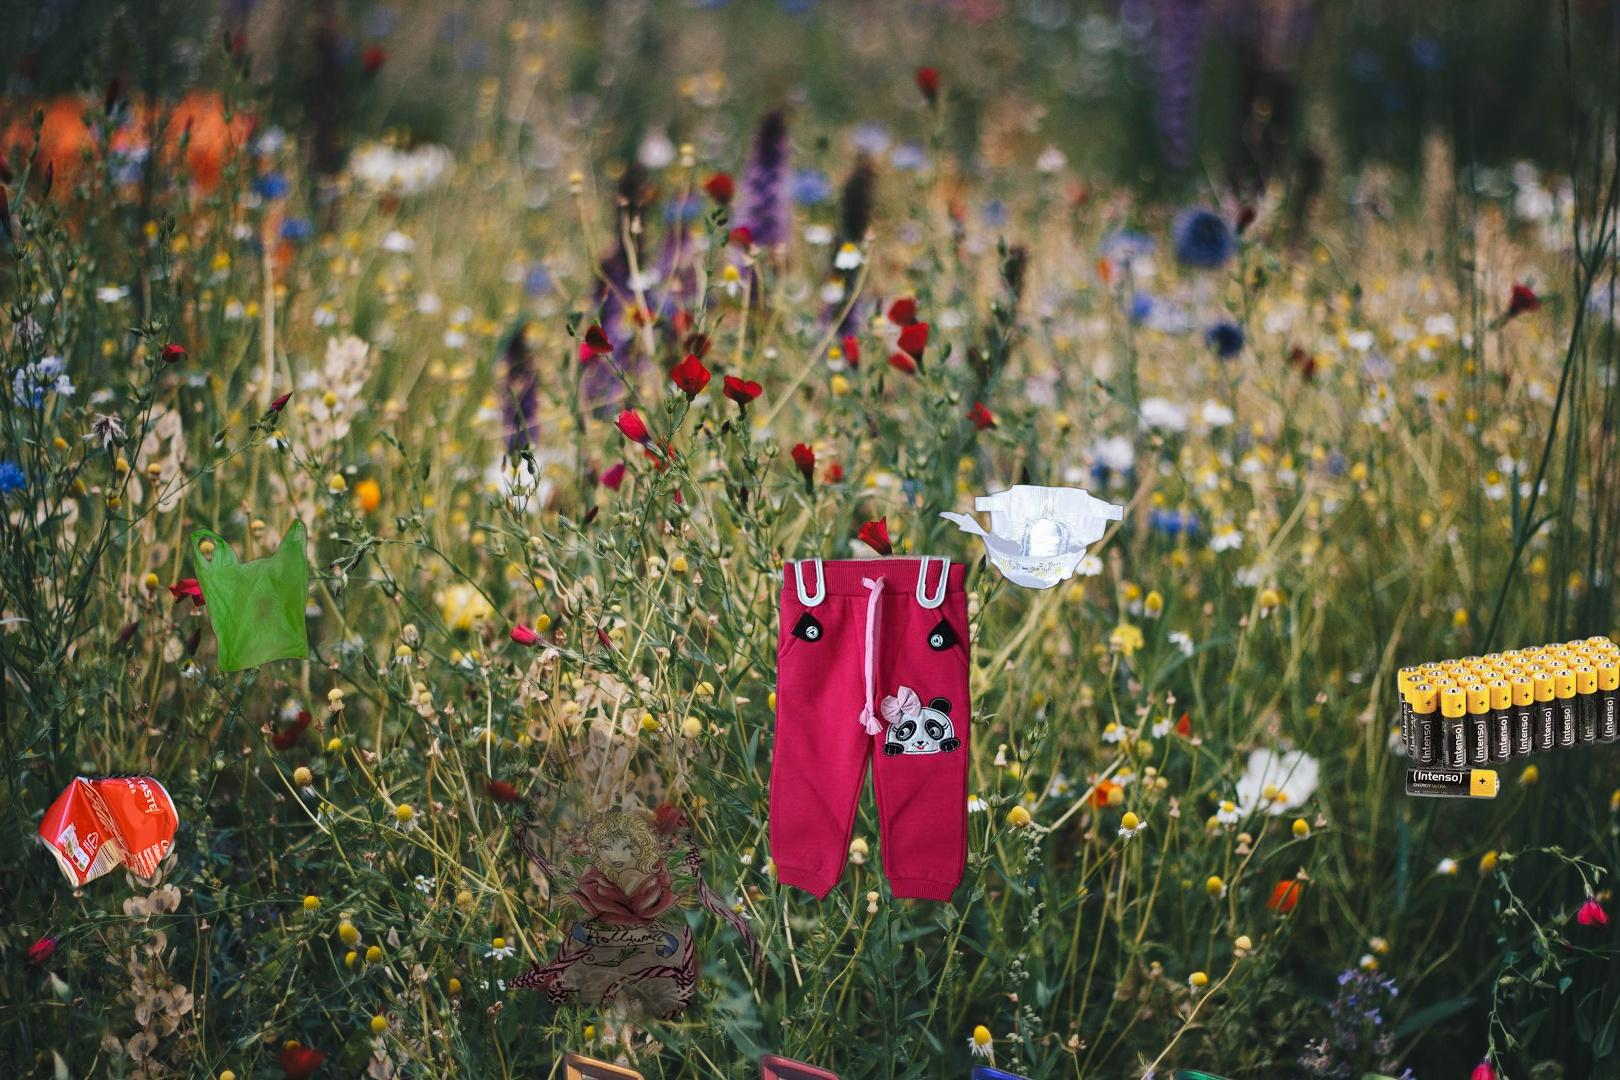battery: (1395, 633, 1620, 802)
clothes: (407, 681, 808, 1074), (765, 548, 975, 908)
metal-cans: (34, 270, 457, 898)
penholder: (542, 1016, 1490, 1080)
plastic-bag: (187, 517, 312, 675)
trash: (933, 482, 1126, 592)
